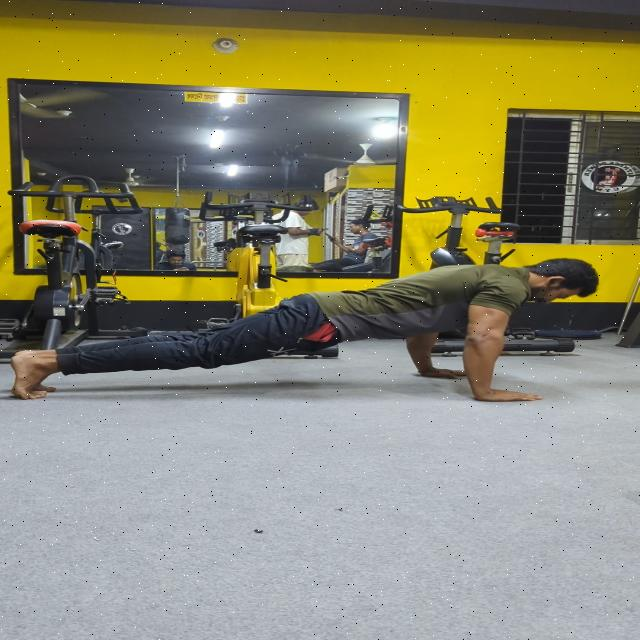Normal_PushUps: (0, 228, 640, 423)
